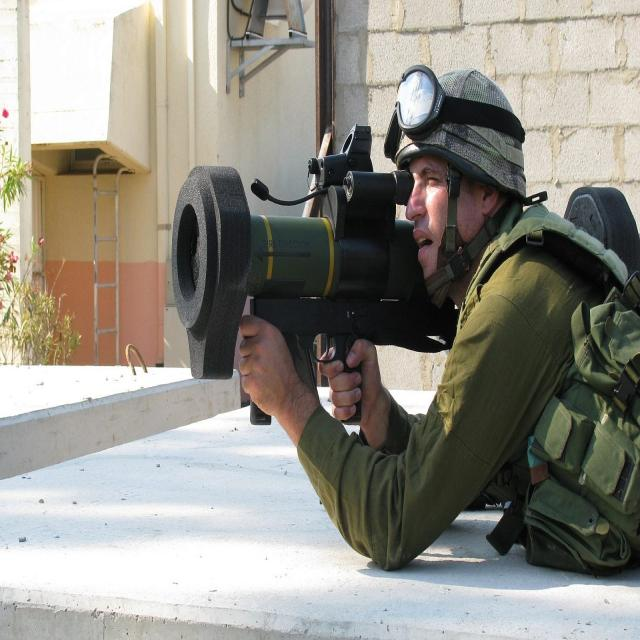bazooka: (133, 82, 640, 480)
